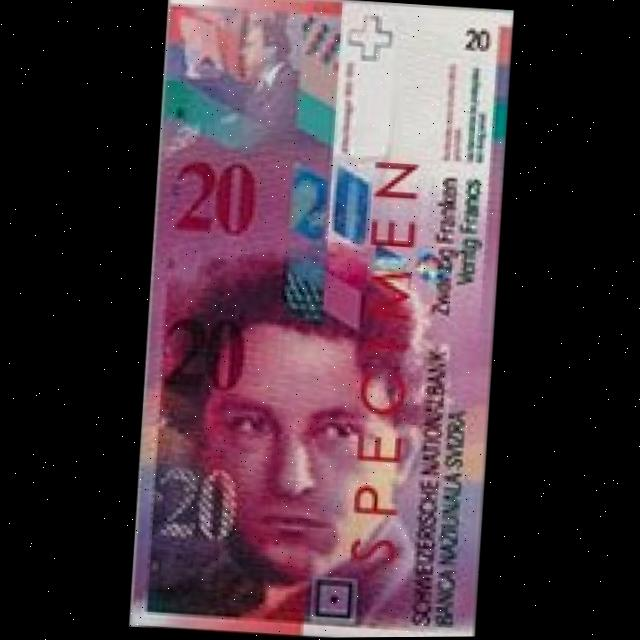banknote: (126, 0, 518, 639), (161, 147, 273, 241), (154, 304, 256, 398), (148, 456, 247, 544), (456, 20, 502, 57)
